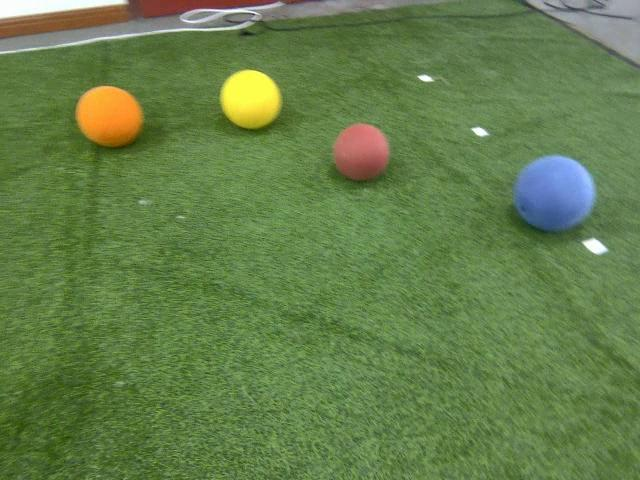blue_ball: (511, 155, 595, 233)
orange_ball: (74, 86, 146, 149)
red_ball: (333, 125, 390, 182)
yellow_ball: (217, 69, 282, 132)
